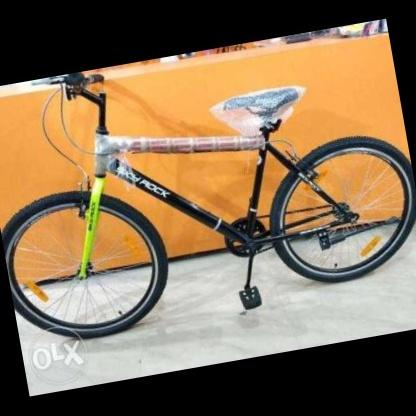Bicycle: (0, 46, 414, 356)
